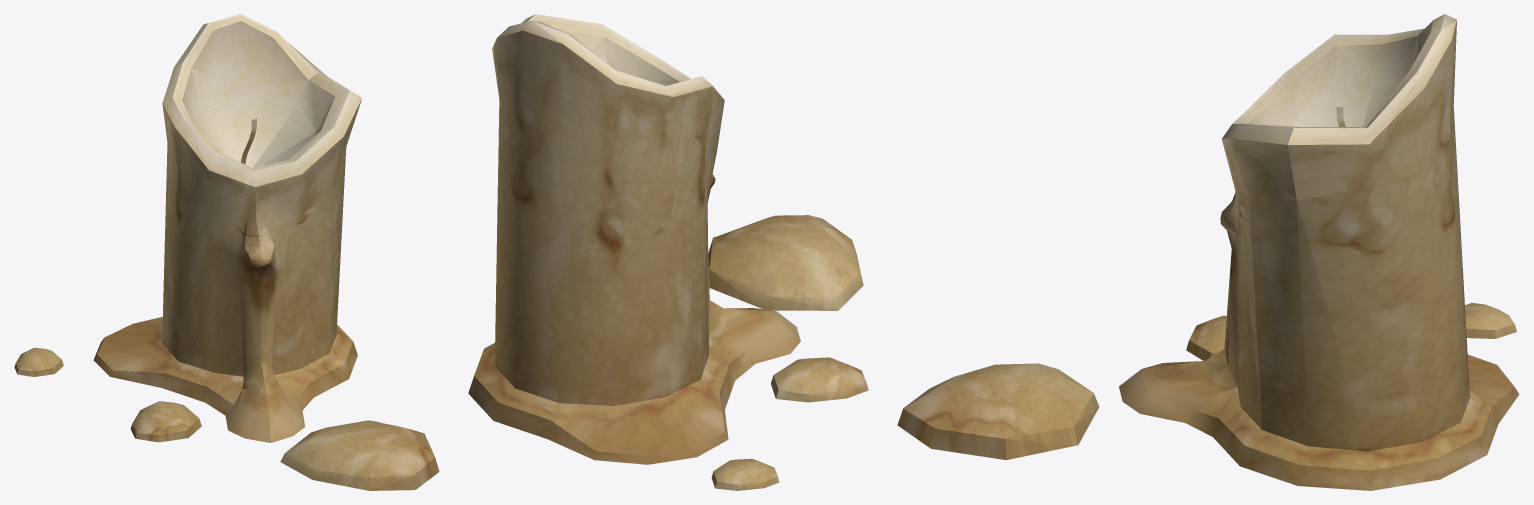
The model's file is CandleBig.obj.
3 views of the same model, side by side, from view 1: azimuth 30°, elevation 25°; view 2: azimuth 150°, elevation 25°; view 3: azimuth 270°, elevation 25° (orthographic). The views are drawn at different scales.
Parts seen in each view (by area): view 1: CandleBig; view 2: CandleBig; view 3: CandleBig.
Part boxes in pixels (left/top/right/bottom): CandleBig: left=14, top=14, right=439, bottom=490; CandleBig: left=468, top=14, right=868, bottom=490; CandleBig: left=897, top=14, right=1519, bottom=490.
Size of the model in its own units: 0.206 by 0.2206 by 0.2992.
